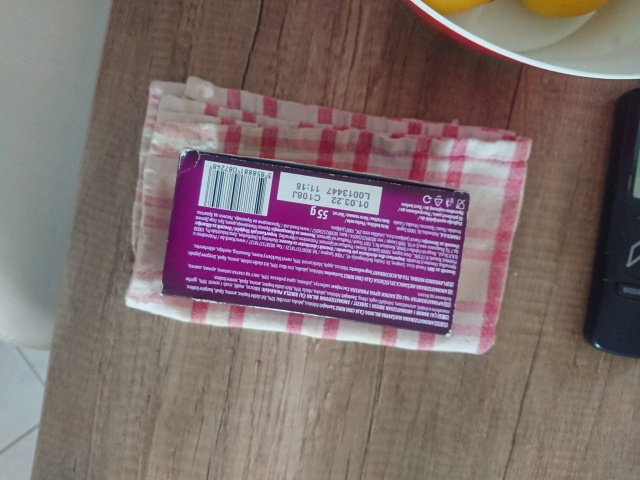Franck Black Currant Tea 60g: (157, 145, 473, 340)
